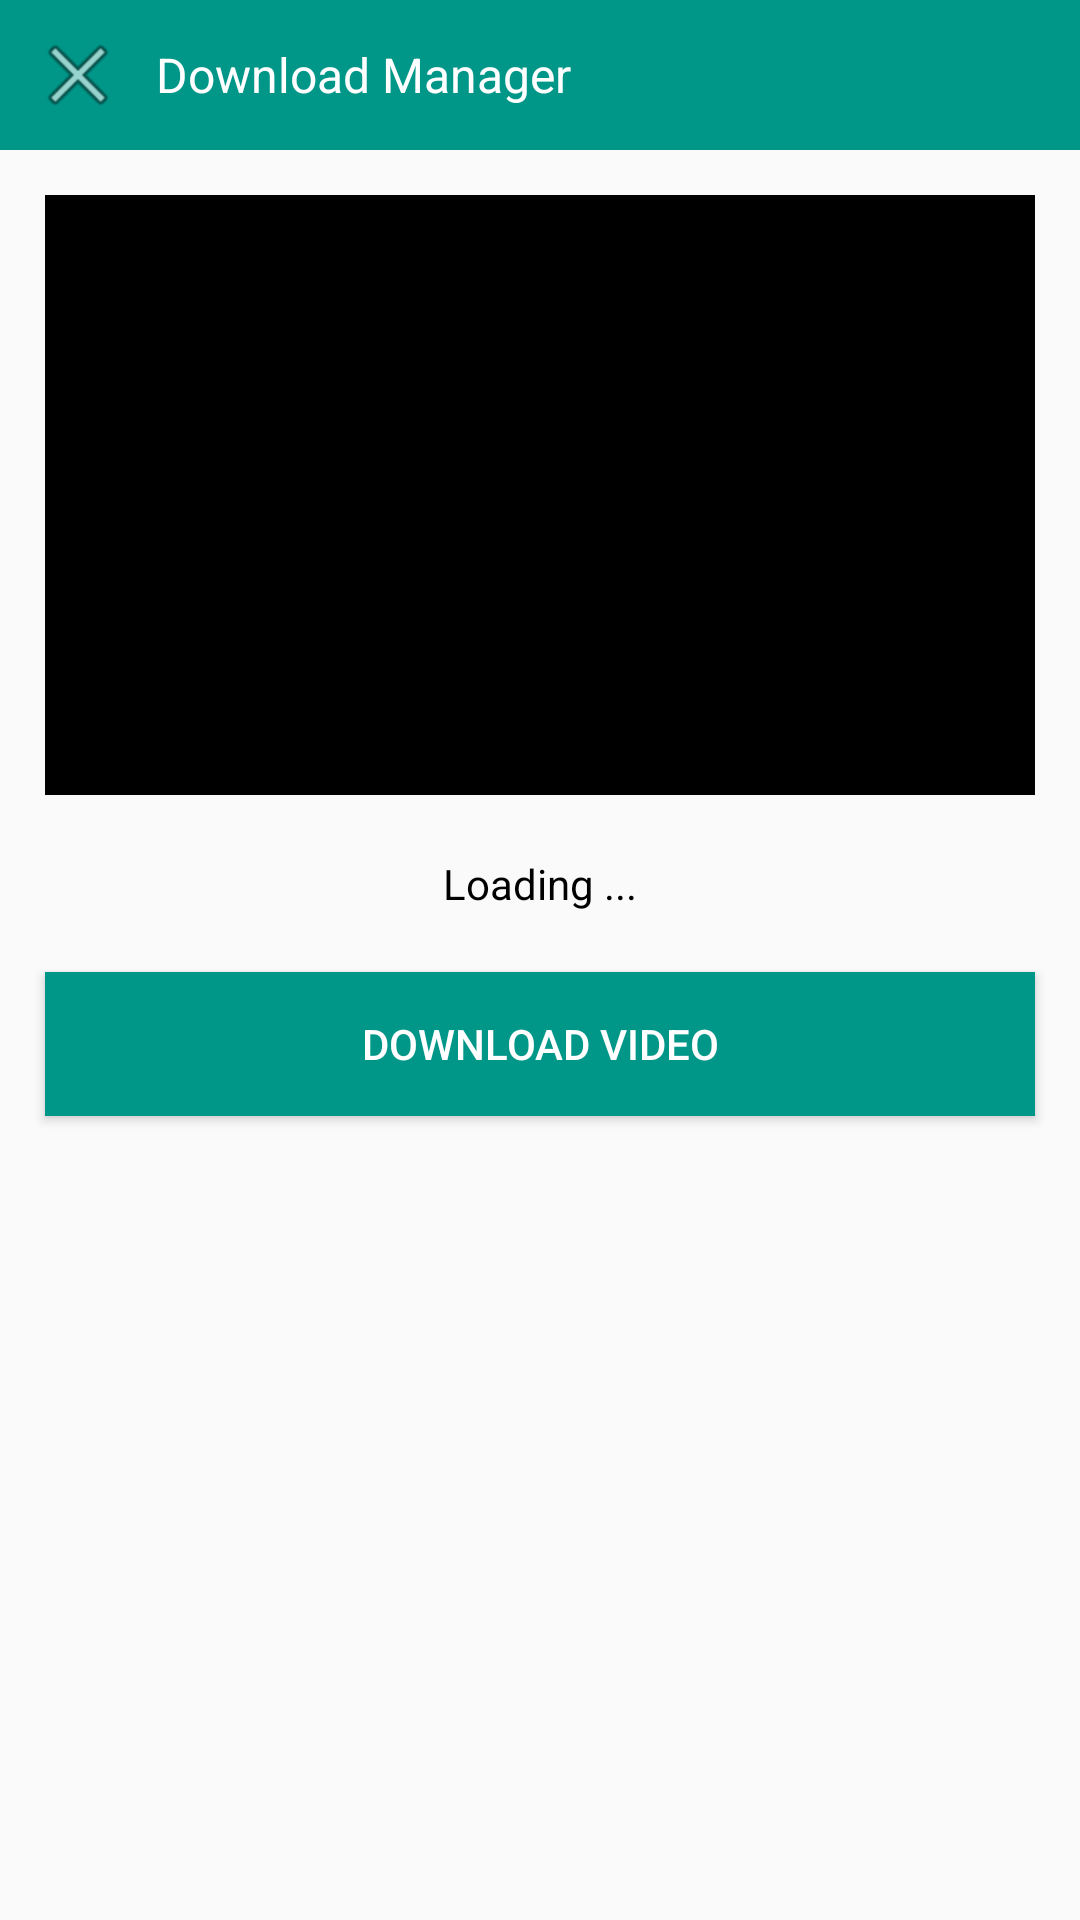

Screen size 1080×1920. Icon name, then its center in pixels as (x,y):
close clear cancel: (78,75)
